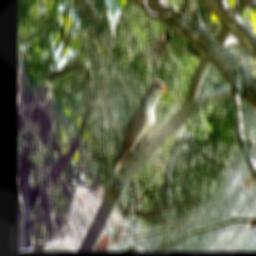Cuckoo: (101, 77, 169, 198)
